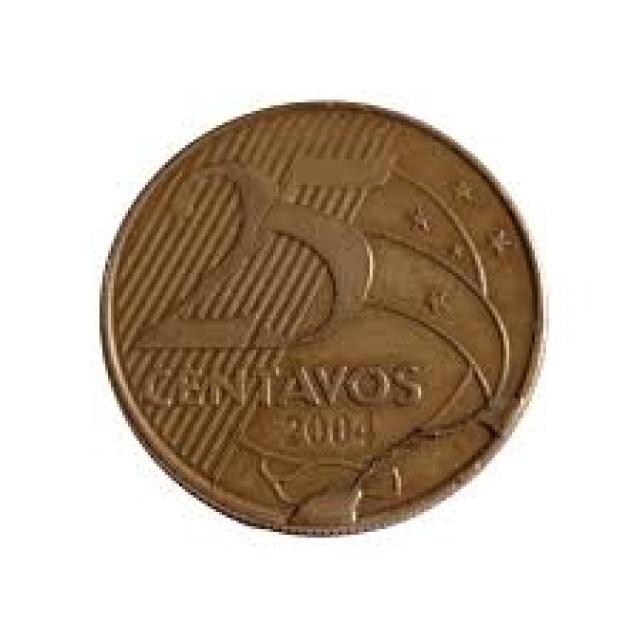25 cent: (107, 99, 540, 538)
